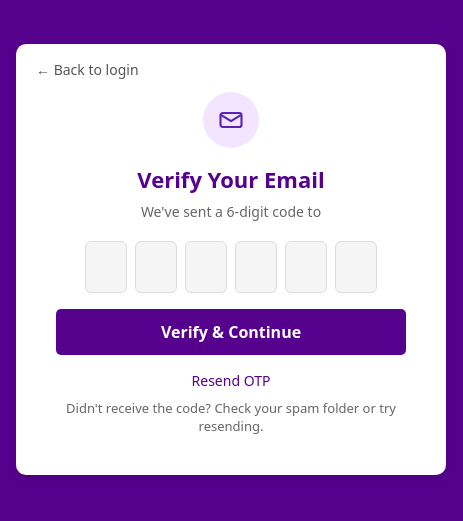
Test: VerifyEmail page › shows missing email error when verifying code without email in location state
Step 1. Type "1" into the 1st field → (106, 266), box [85,240,127,292]
Step 2. Type "1" into the 2nd field → (156, 266), box [135,240,177,292]
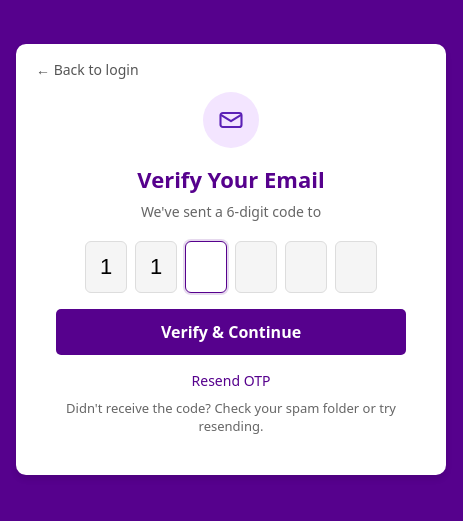
Step 3. Type "1" into the 3rd field → (206, 266), box [185,240,227,292]
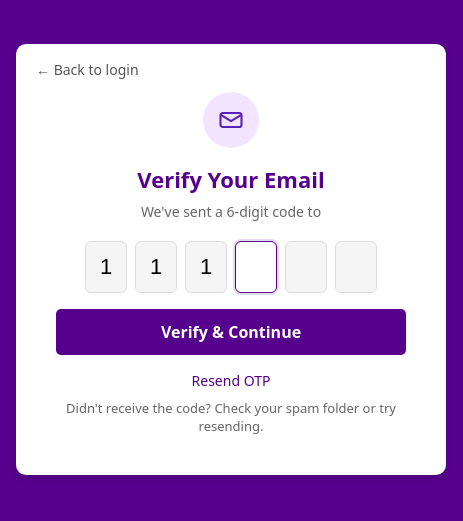
Step 4. Type "1" into the 4th field → (256, 266), box [235,240,277,292]
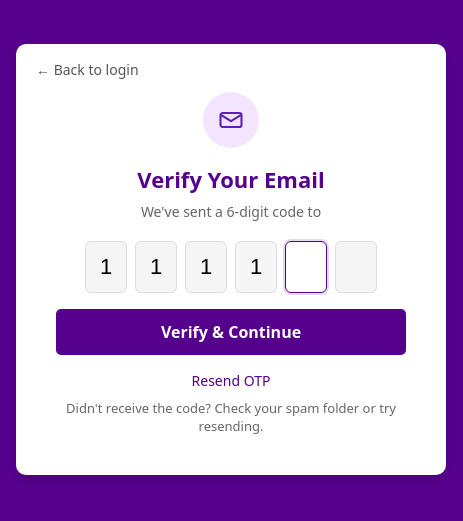
Step 5. Type "1" into the 5th field → (306, 266), box [285,240,327,292]
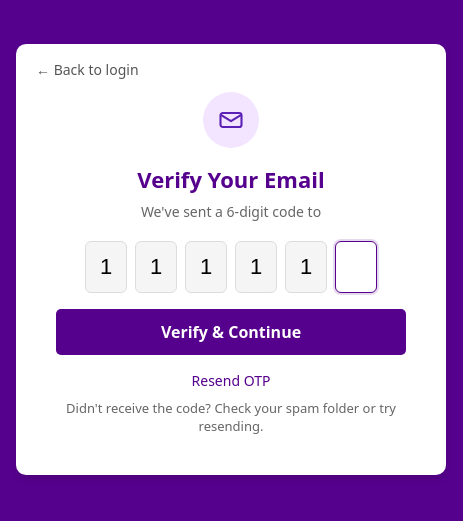
Step 6. Type "1" into the 6th field → (356, 266), box [335,240,377,292]
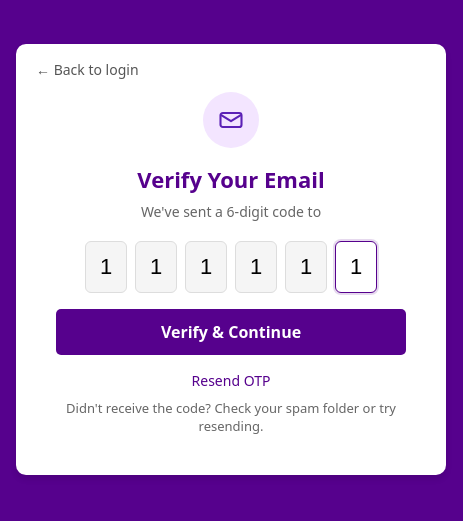
Step 7. Click the button "Verify & Continue" → click(231, 332), box [56,308,406,354]
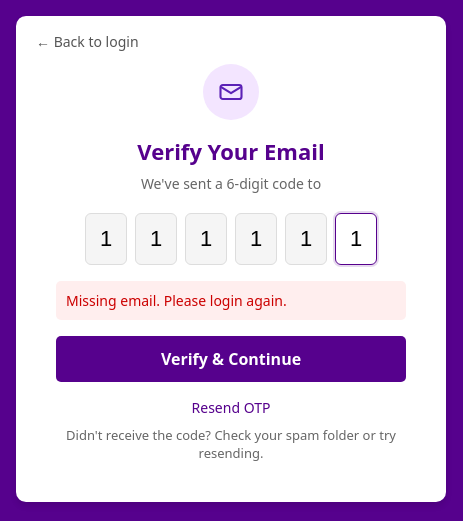
Expected: the text "Missing email. Please login again." is shown, [56,281,406,320]
